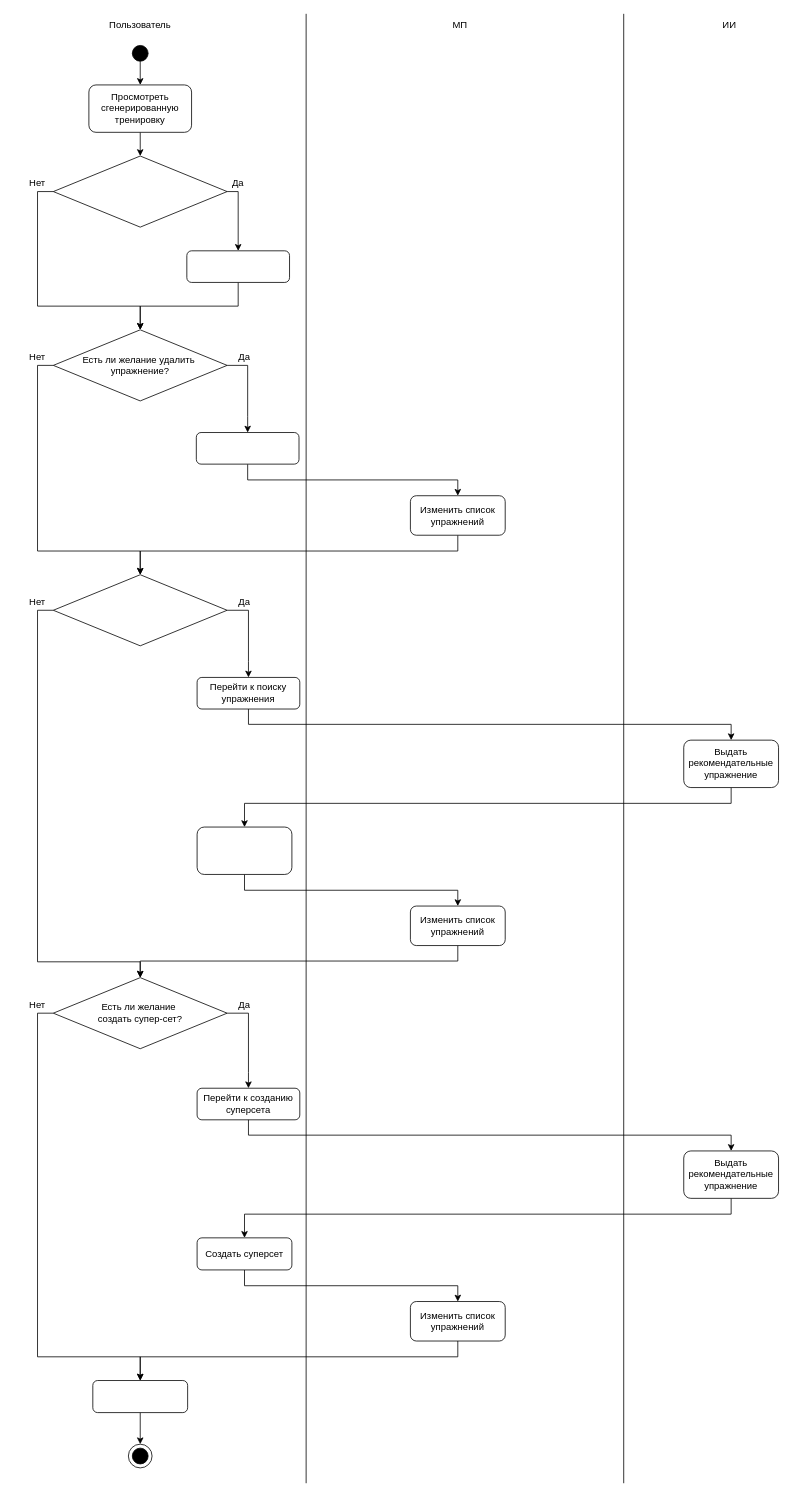
This 792x1498 diagram has some shape labels left out. Each missing label, with the centre of its shape:
"Выбрать альтернативное упражнение" goes at (x=244, y=850).
"Есть ли желание заменить упражнение?" goes at (x=140, y=610).
"Есть ли желание изменить порядок упражнений?" goes at (x=140, y=191).
"Изменить порядок упражнений" goes at (x=238, y=266).
"Сохранить изменения" goes at (x=140, y=1396).
"Удалить упражнения" goes at (x=247, y=448).
